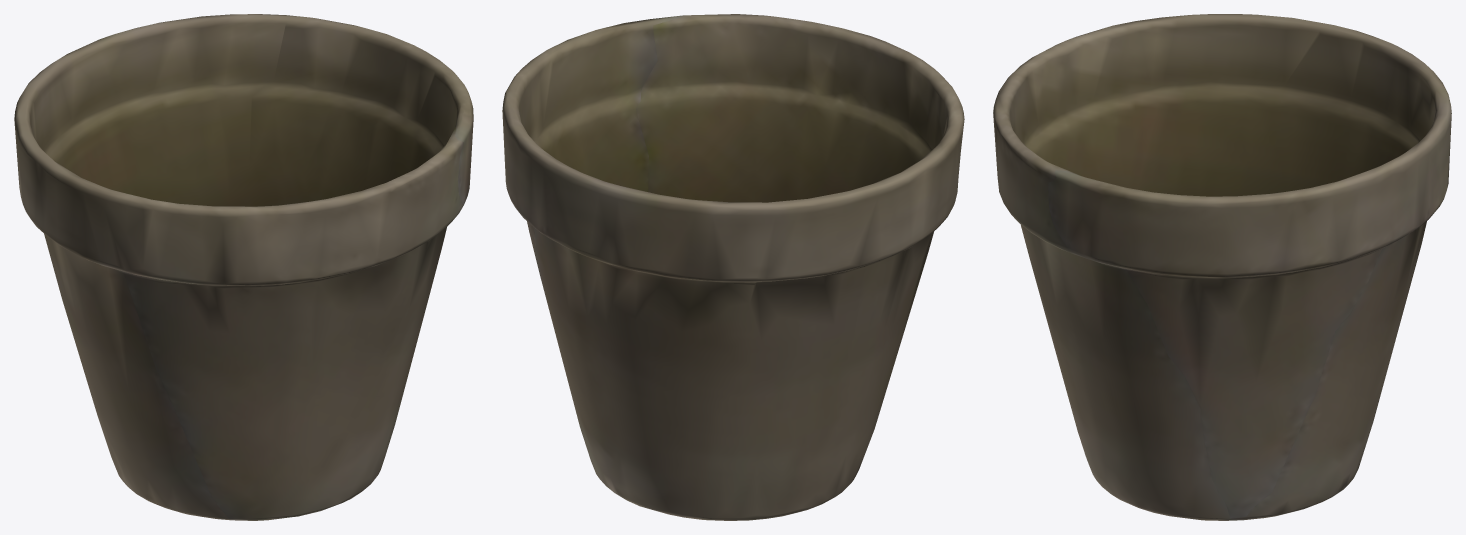
File: Cole_Hardware_Flower_Pot_1025-high.glb
3 renders of one model, left to right at view 1: azimuth 30°, elevation 25°; view 2: azimuth 150°, elevation 25°; view 3: azimuth 270°, elevation 25°, orthographic.
Parts seen in each view (by area): view 1: Cole_Hardware_Flower_Pot_1025; view 2: Cole_Hardware_Flower_Pot_1025; view 3: Cole_Hardware_Flower_Pot_1025.
Part boxes in pixels (<box>): Cole_Hardware_Flower_Pot_1025: <box>14,14,473,520</box>; Cole_Hardware_Flower_Pot_1025: <box>502,14,964,520</box>; Cole_Hardware_Flower_Pot_1025: <box>993,14,1451,520</box>.
Size of the model in its own units: 0.2499 by 0.2168 by 0.2467.
Materials: 1 (1 with a texture image).
